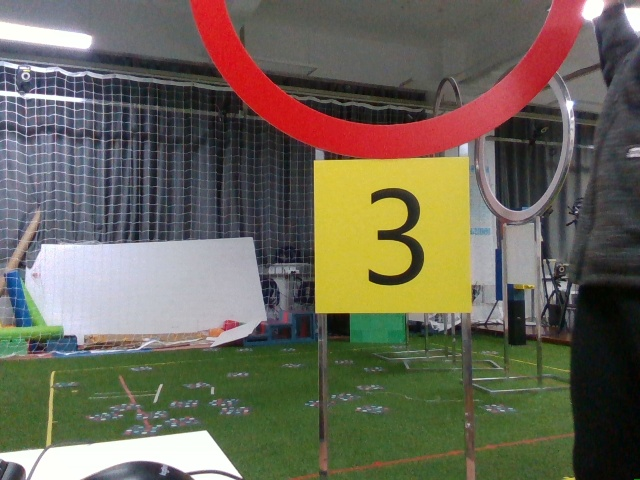target: (317, 161, 464, 313)
